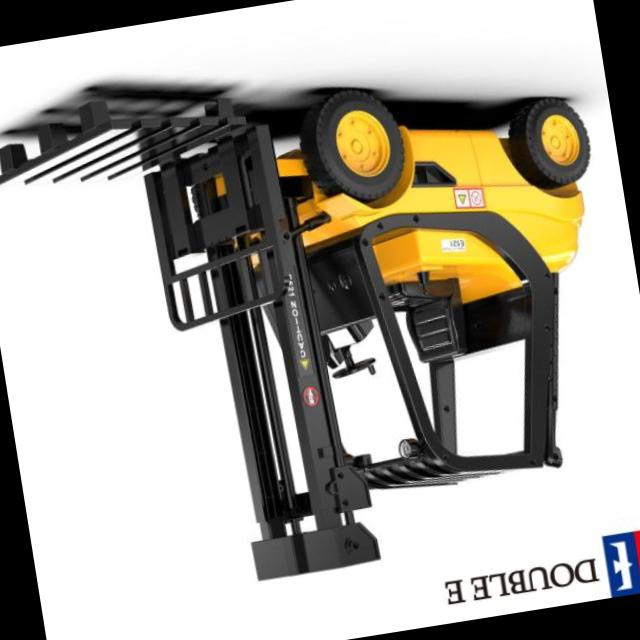forklift: (125, 45, 640, 603)
